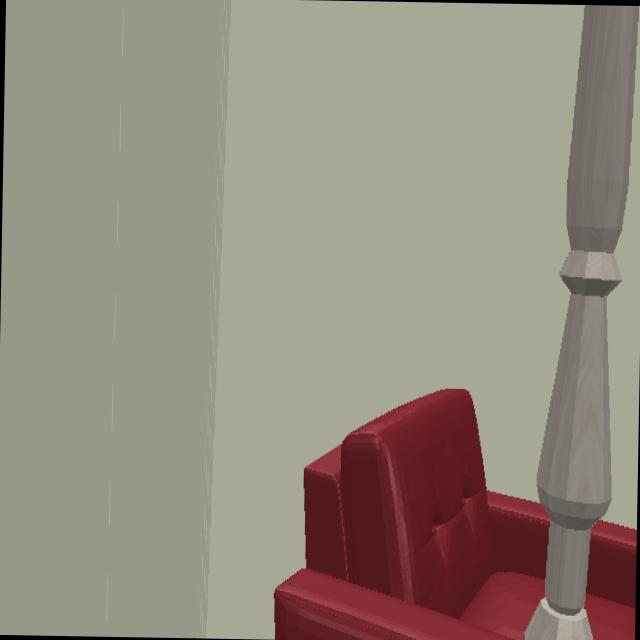sofa: (274, 389, 550, 640), (585, 521, 636, 640)
